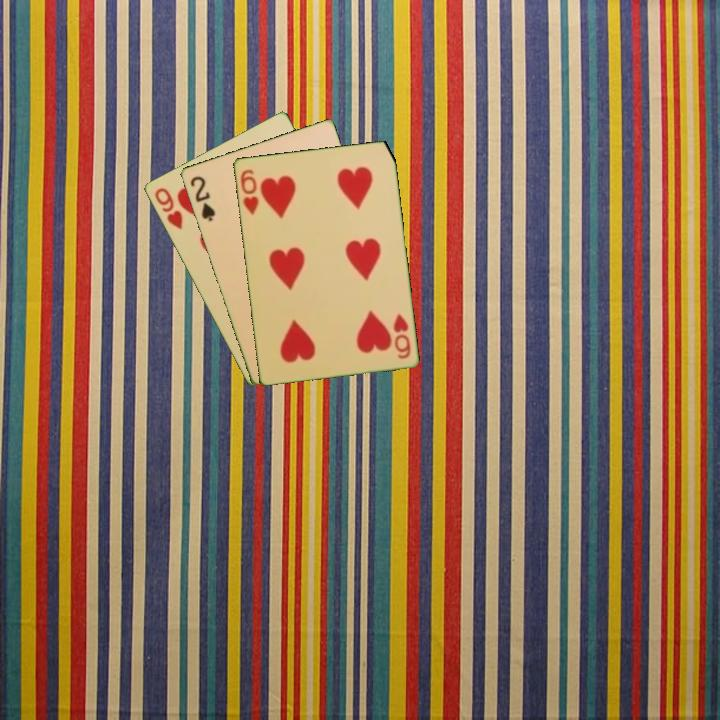2s: (186, 172, 218, 224)
6h: (236, 166, 261, 217), (389, 310, 413, 362)
9h: (151, 184, 185, 232)
